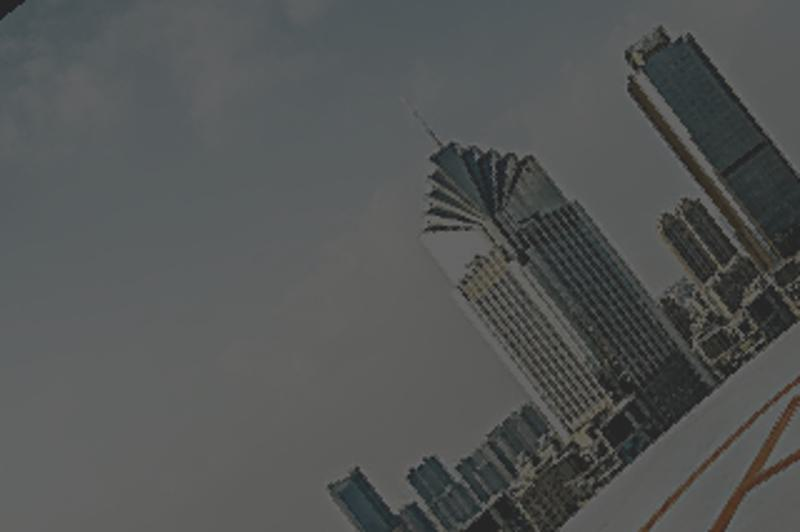Apron: (605, 381, 800, 532)
